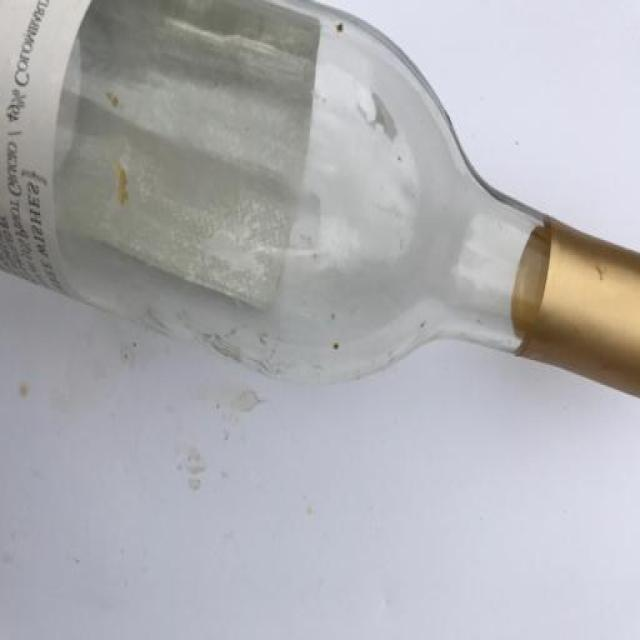glass: (0, 0, 640, 458)
